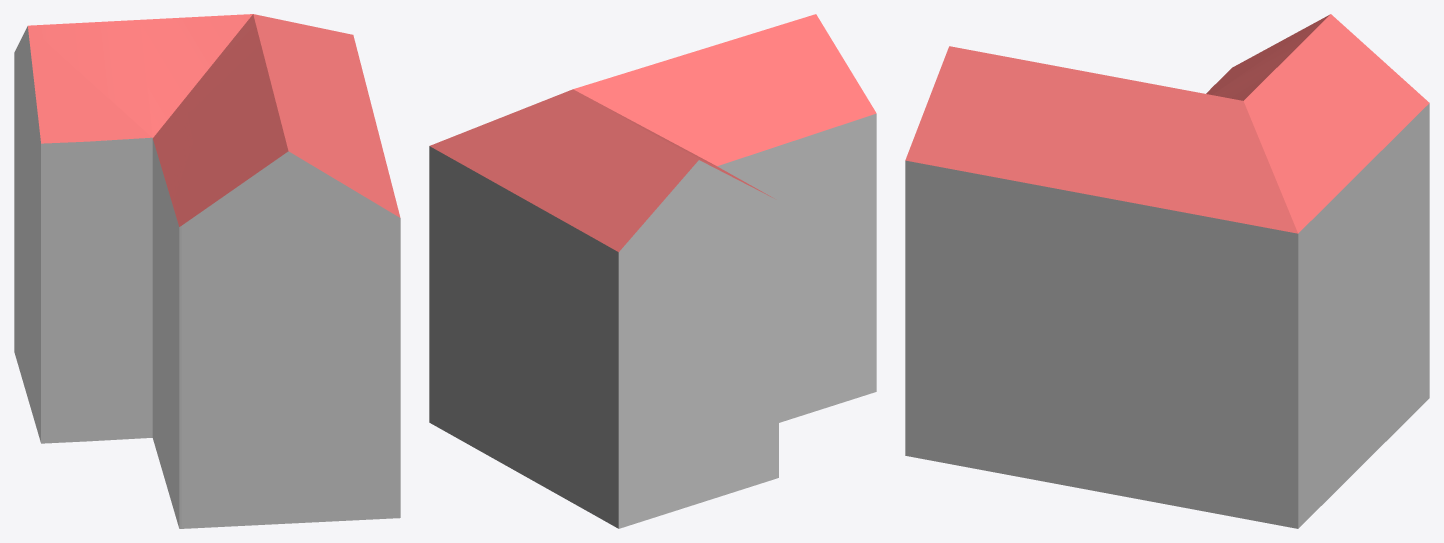
Rendered from DEBY_LOD2_4907173.gltf.
The picture shows the model from 3 angles, left to right: view 1: azimuth 30°, elevation 25°; view 2: azimuth 150°, elevation 25°; view 3: azimuth 270°, elevation 25°; orthographic projection. The views are drawn at different scales.
Visible parts, largest first — view 1: Z_UP; view 2: Z_UP; view 3: Z_UP.
Part boxes in pixels (x1,y1,x2,y2): Z_UP: [14, 14, 400, 528]; Z_UP: [429, 14, 876, 528]; Z_UP: [905, 14, 1429, 528].
Bounding box in the file's own units: 22.14 × 22.79 × 29.55.
